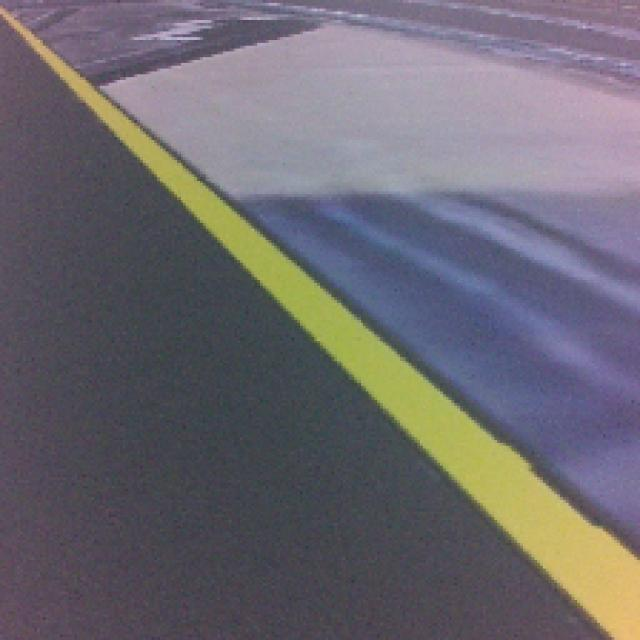Guard rail: (245, 243, 640, 640)
